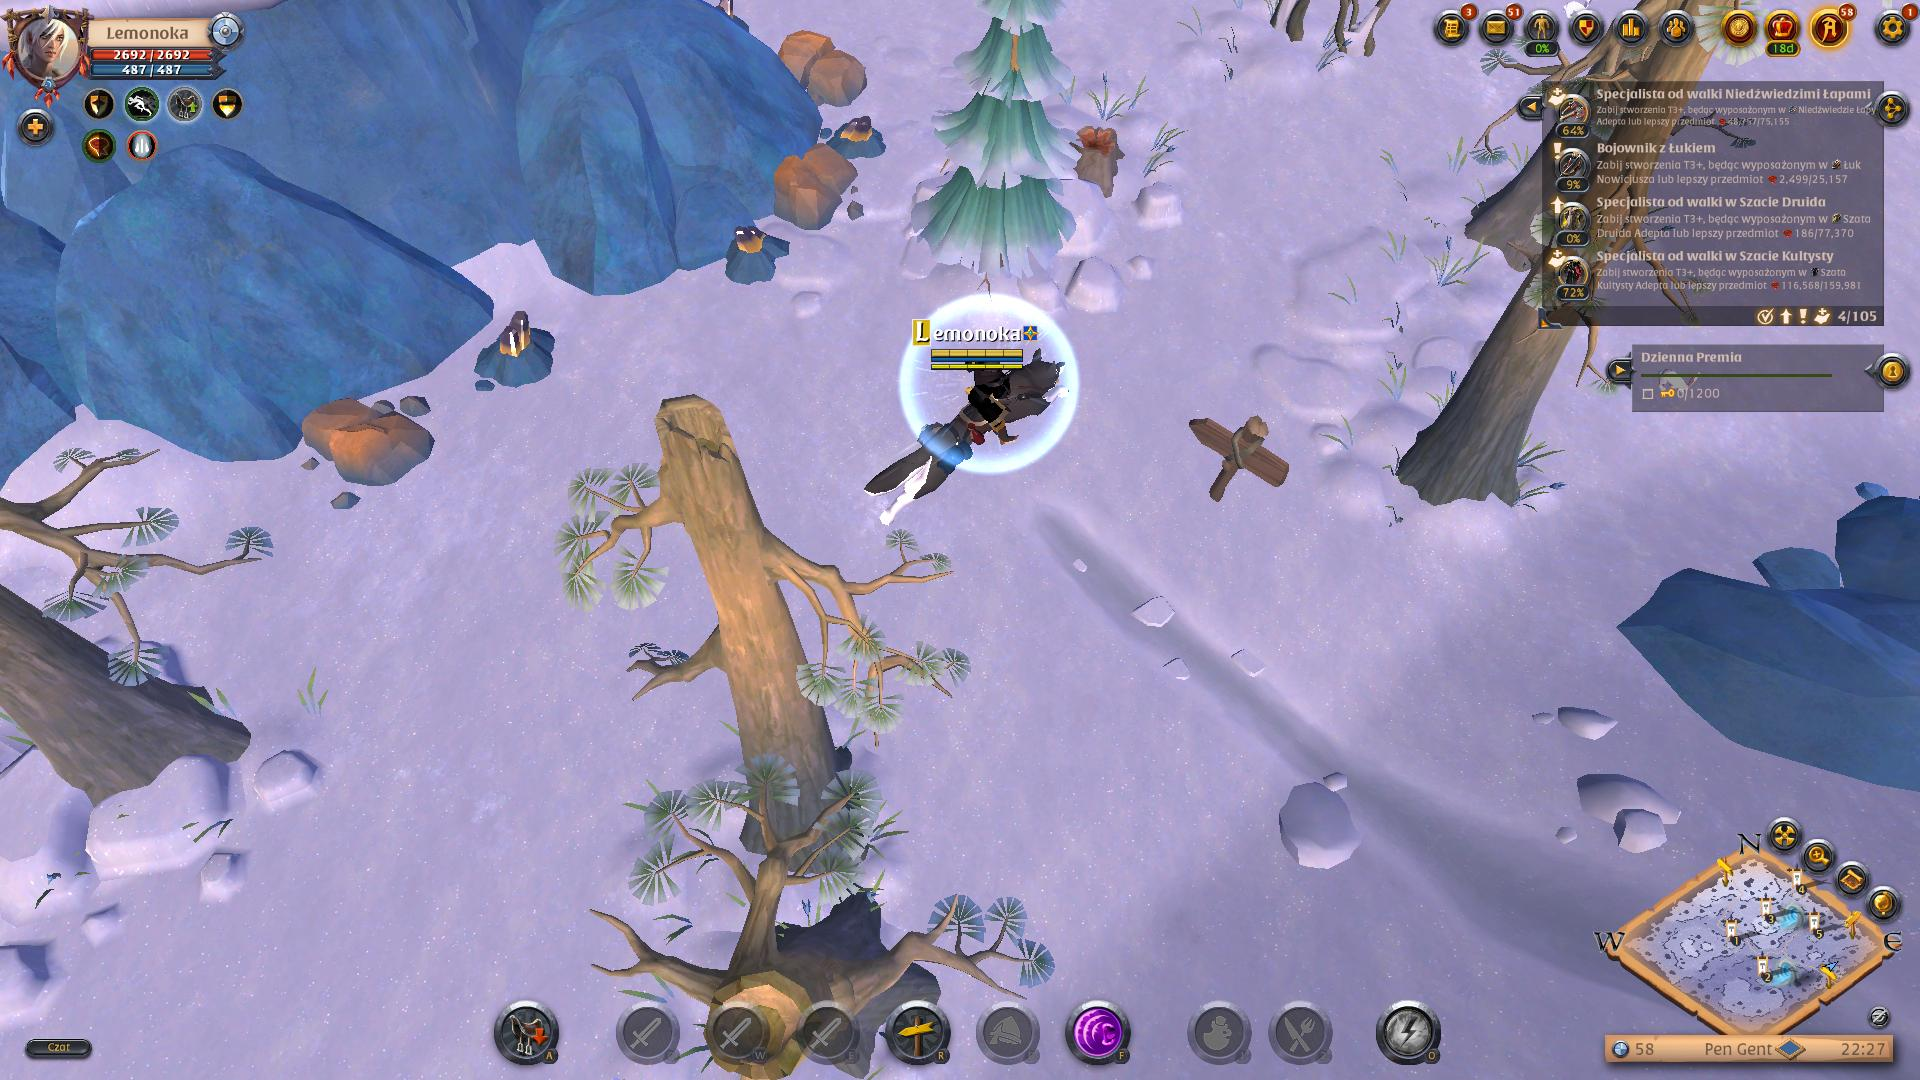ore tier 2: (473, 305, 560, 402), (721, 219, 795, 293), (828, 112, 890, 171)
rock tier 2: (284, 386, 444, 508), (773, 144, 868, 239), (773, 24, 872, 115)
